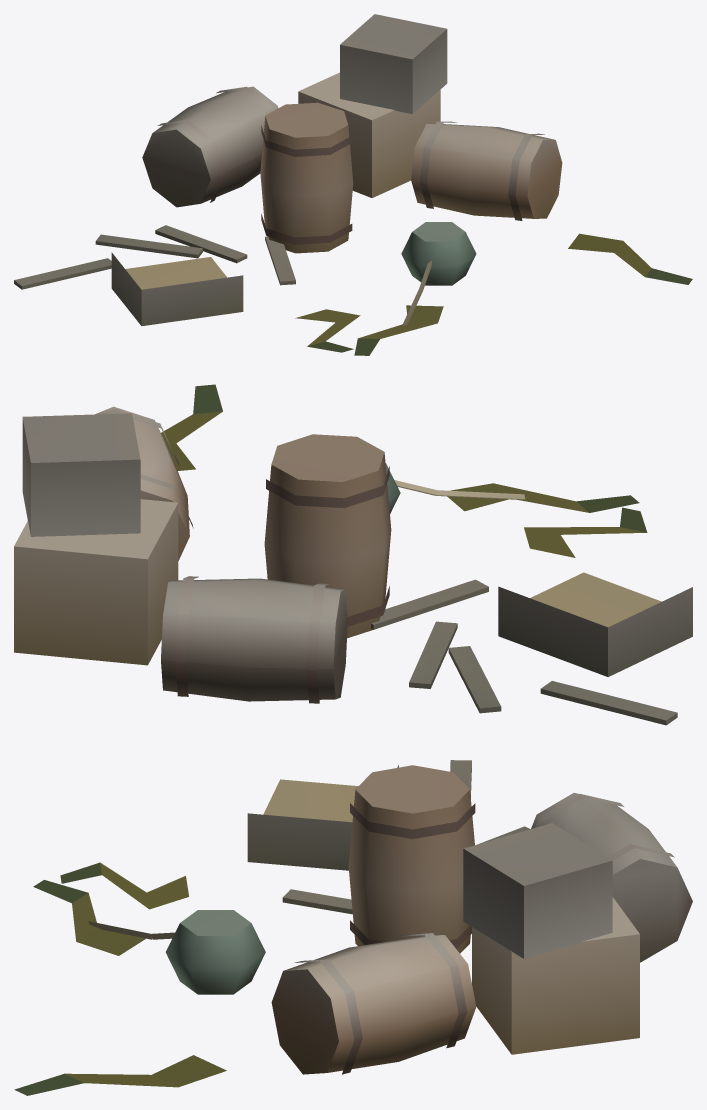
The model's file is wreck_cove_flotsam.glb.
3 views of the same model, one above another, from view 1: azimuth 30°, elevation 25°; view 2: azimuth 150°, elevation 25°; view 3: azimuth 270°, elevation 25° (orthographic). The views are drawn at different scales.
Parts seen in each view (by area): view 1: body; view 2: body; view 3: body.
Boxes of the visible parts, bbox=[...] form: body: bbox=[14, 14, 692, 355]; body: bbox=[14, 384, 692, 725]; body: bbox=[14, 760, 692, 1095].
Bounding box in the file's own units: 4.41 × 1.17 × 3.79.
